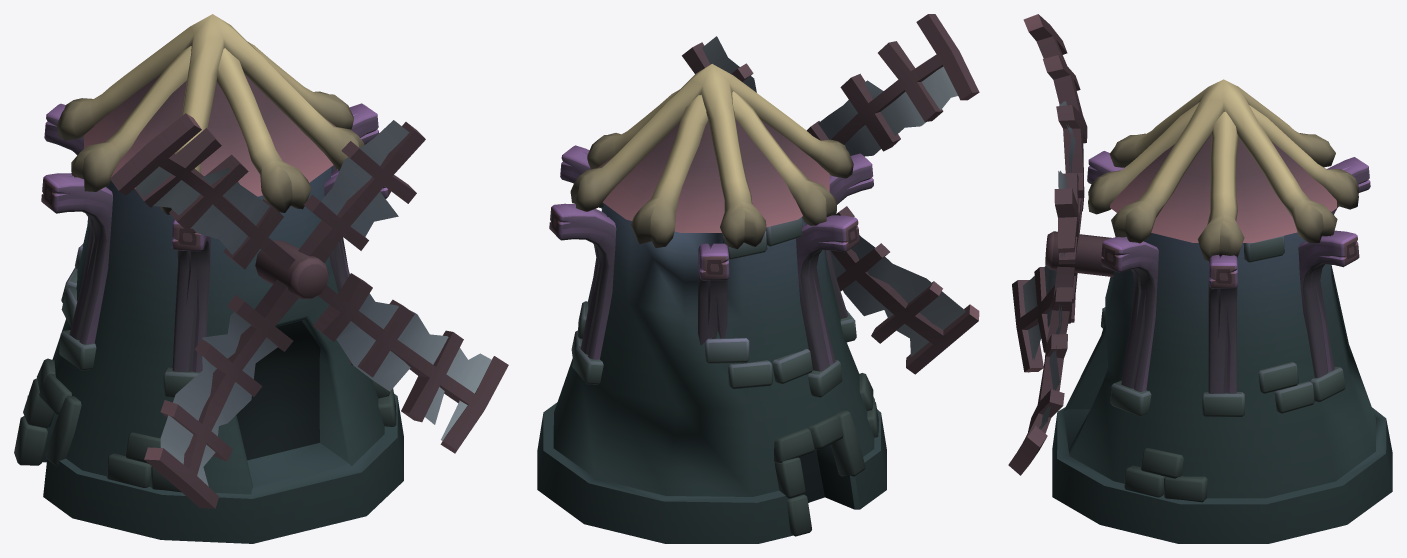
The model's file is undead_windmill.fbx.
The picture shows the model from 3 angles, left to right: view 1: azimuth 30°, elevation 25°; view 2: azimuth 150°, elevation 25°; view 3: azimuth 270°, elevation 25°; orthographic projection. The views are drawn at different scales.
Visible parts, largest first — view 1: undead_windmill; view 2: undead_windmill; view 3: undead_windmill.
Part boxes in pixels (box(x1,y1,x2,y2)): undead_windmill: box(14, 14, 508, 543); undead_windmill: box(537, 14, 979, 543); undead_windmill: box(1008, 14, 1392, 543).
Size of the model in its own units: 8.12 by 9.23 by 7.97.
